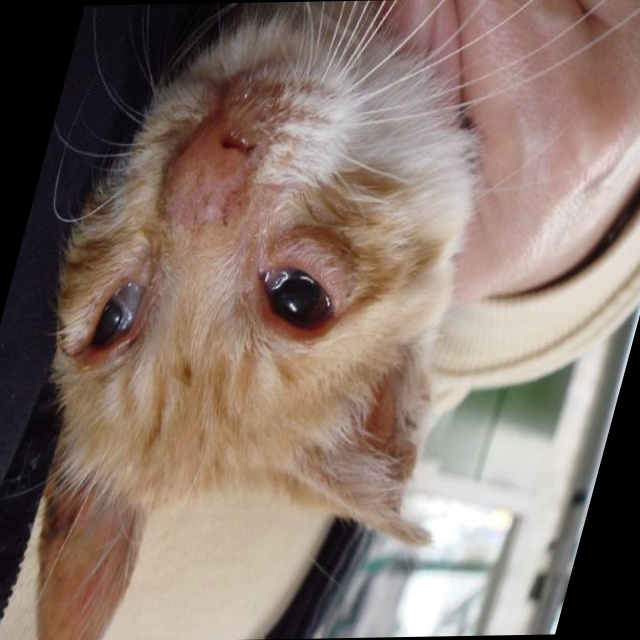eye_infection: (244, 251, 353, 339), (67, 273, 160, 360)
